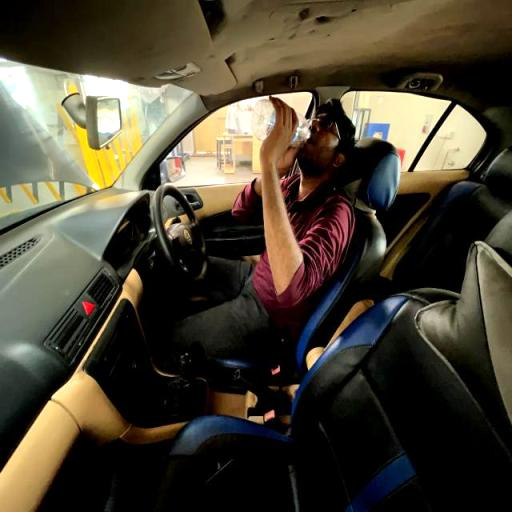Drinking: (213, 94, 363, 313)
